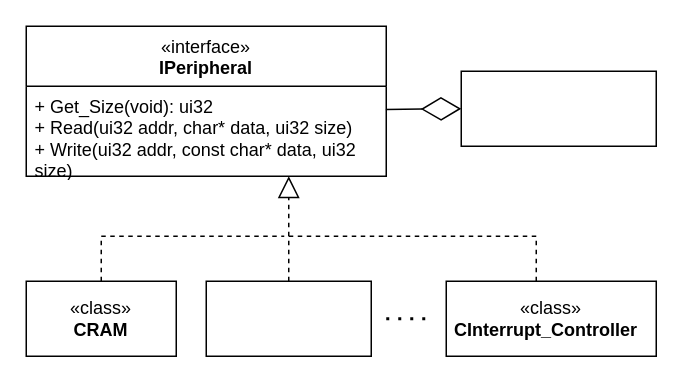
The diagram is 683 pixels wide and 383 high, and some of its shapes have lost their labels. The shapes that lost their labels are listed below. From the top down, each one's centre as x and y in pixels, then its label:
At point (558, 108): "«class» CBus".
At point (288, 318): "«class» CGPIO_Manager".
